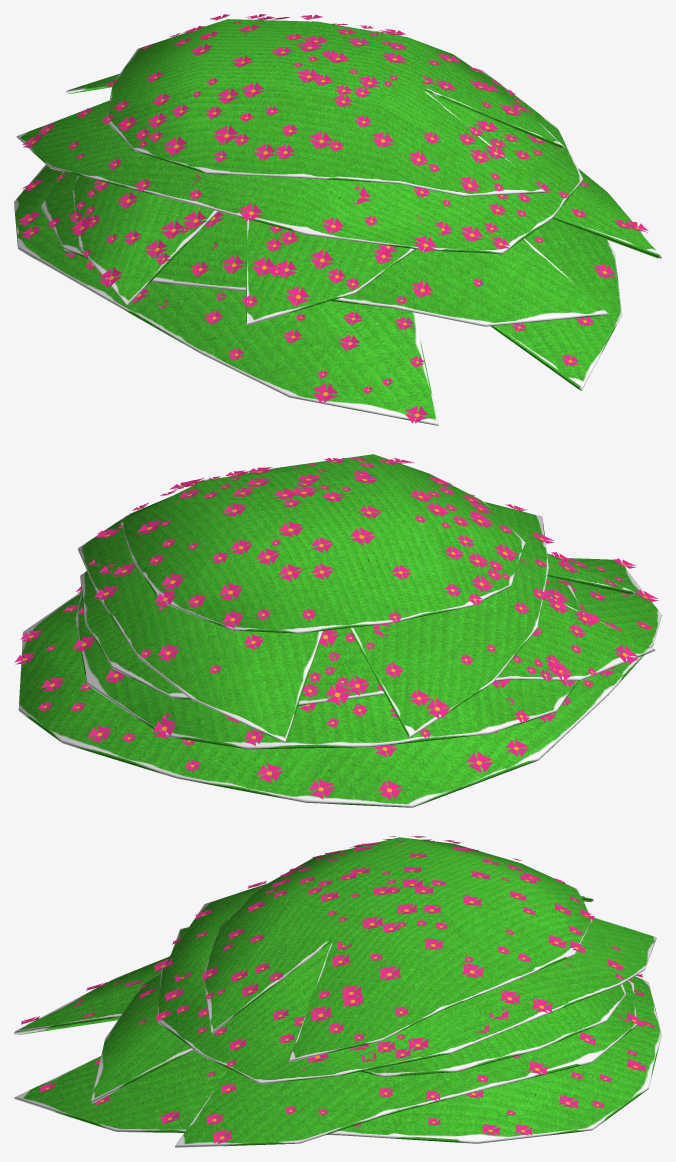
File: Ground Rose.fbx
3 renders of one model, top to bottom at view 1: azimuth 30°, elevation 25°; view 2: azimuth 150°, elevation 25°; view 3: azimuth 270°, elevation 25°, orthographic. The views are drawn at different scales.
Parts seen in each view (by area): view 1: Ground Rose; view 2: Ground Rose; view 3: Ground Rose.
Boxes of the visible parts, x1,y1,x2,y2 form: Ground Rose: [14, 14, 661, 425]; Ground Rose: [14, 454, 661, 807]; Ground Rose: [14, 836, 661, 1147].
Bounding box in the file's own units: 4.65 × 1.84 × 5.62.
